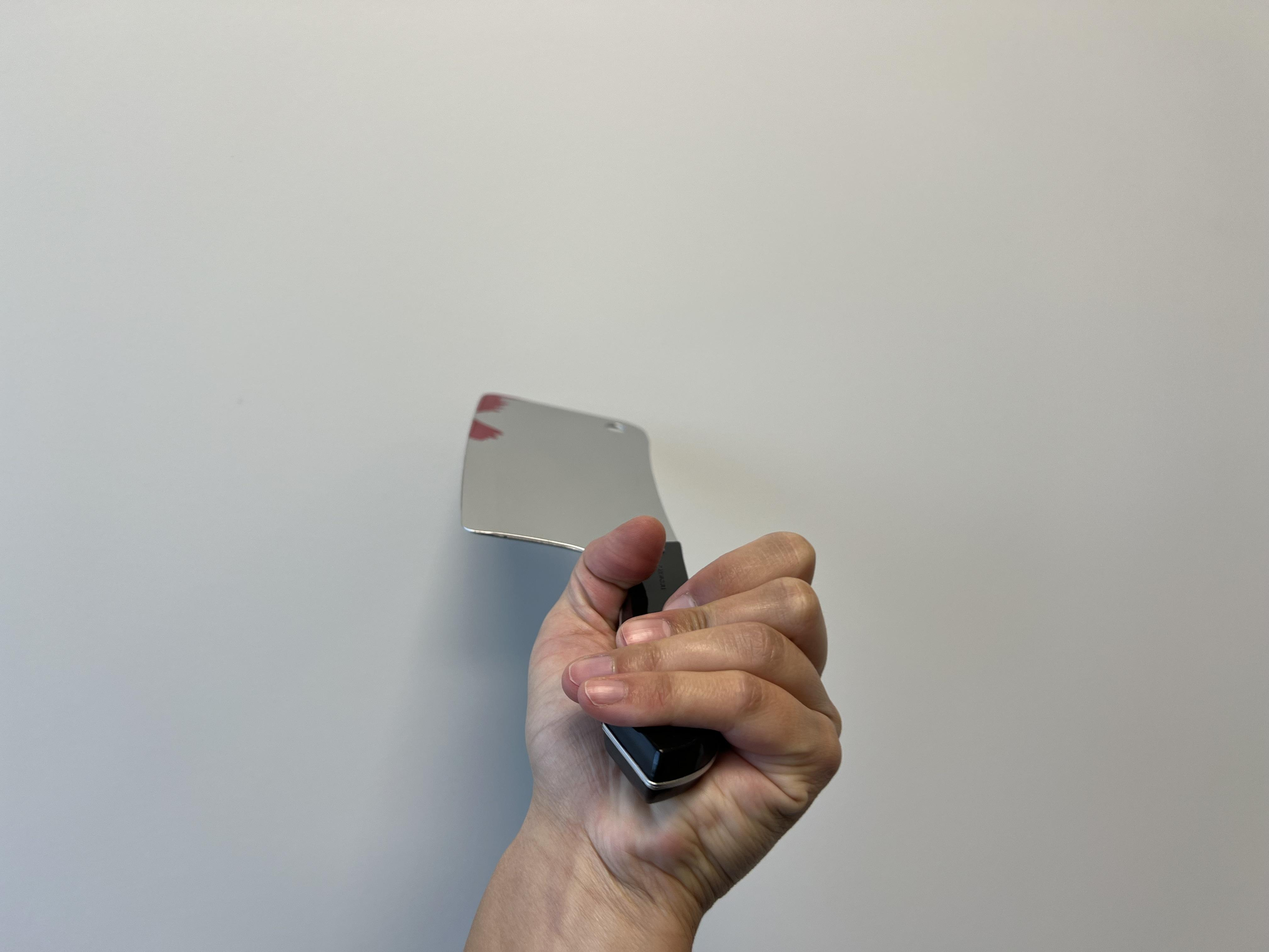Knife: (471, 519, 846, 952), (526, 518, 842, 877), (458, 392, 687, 593)
